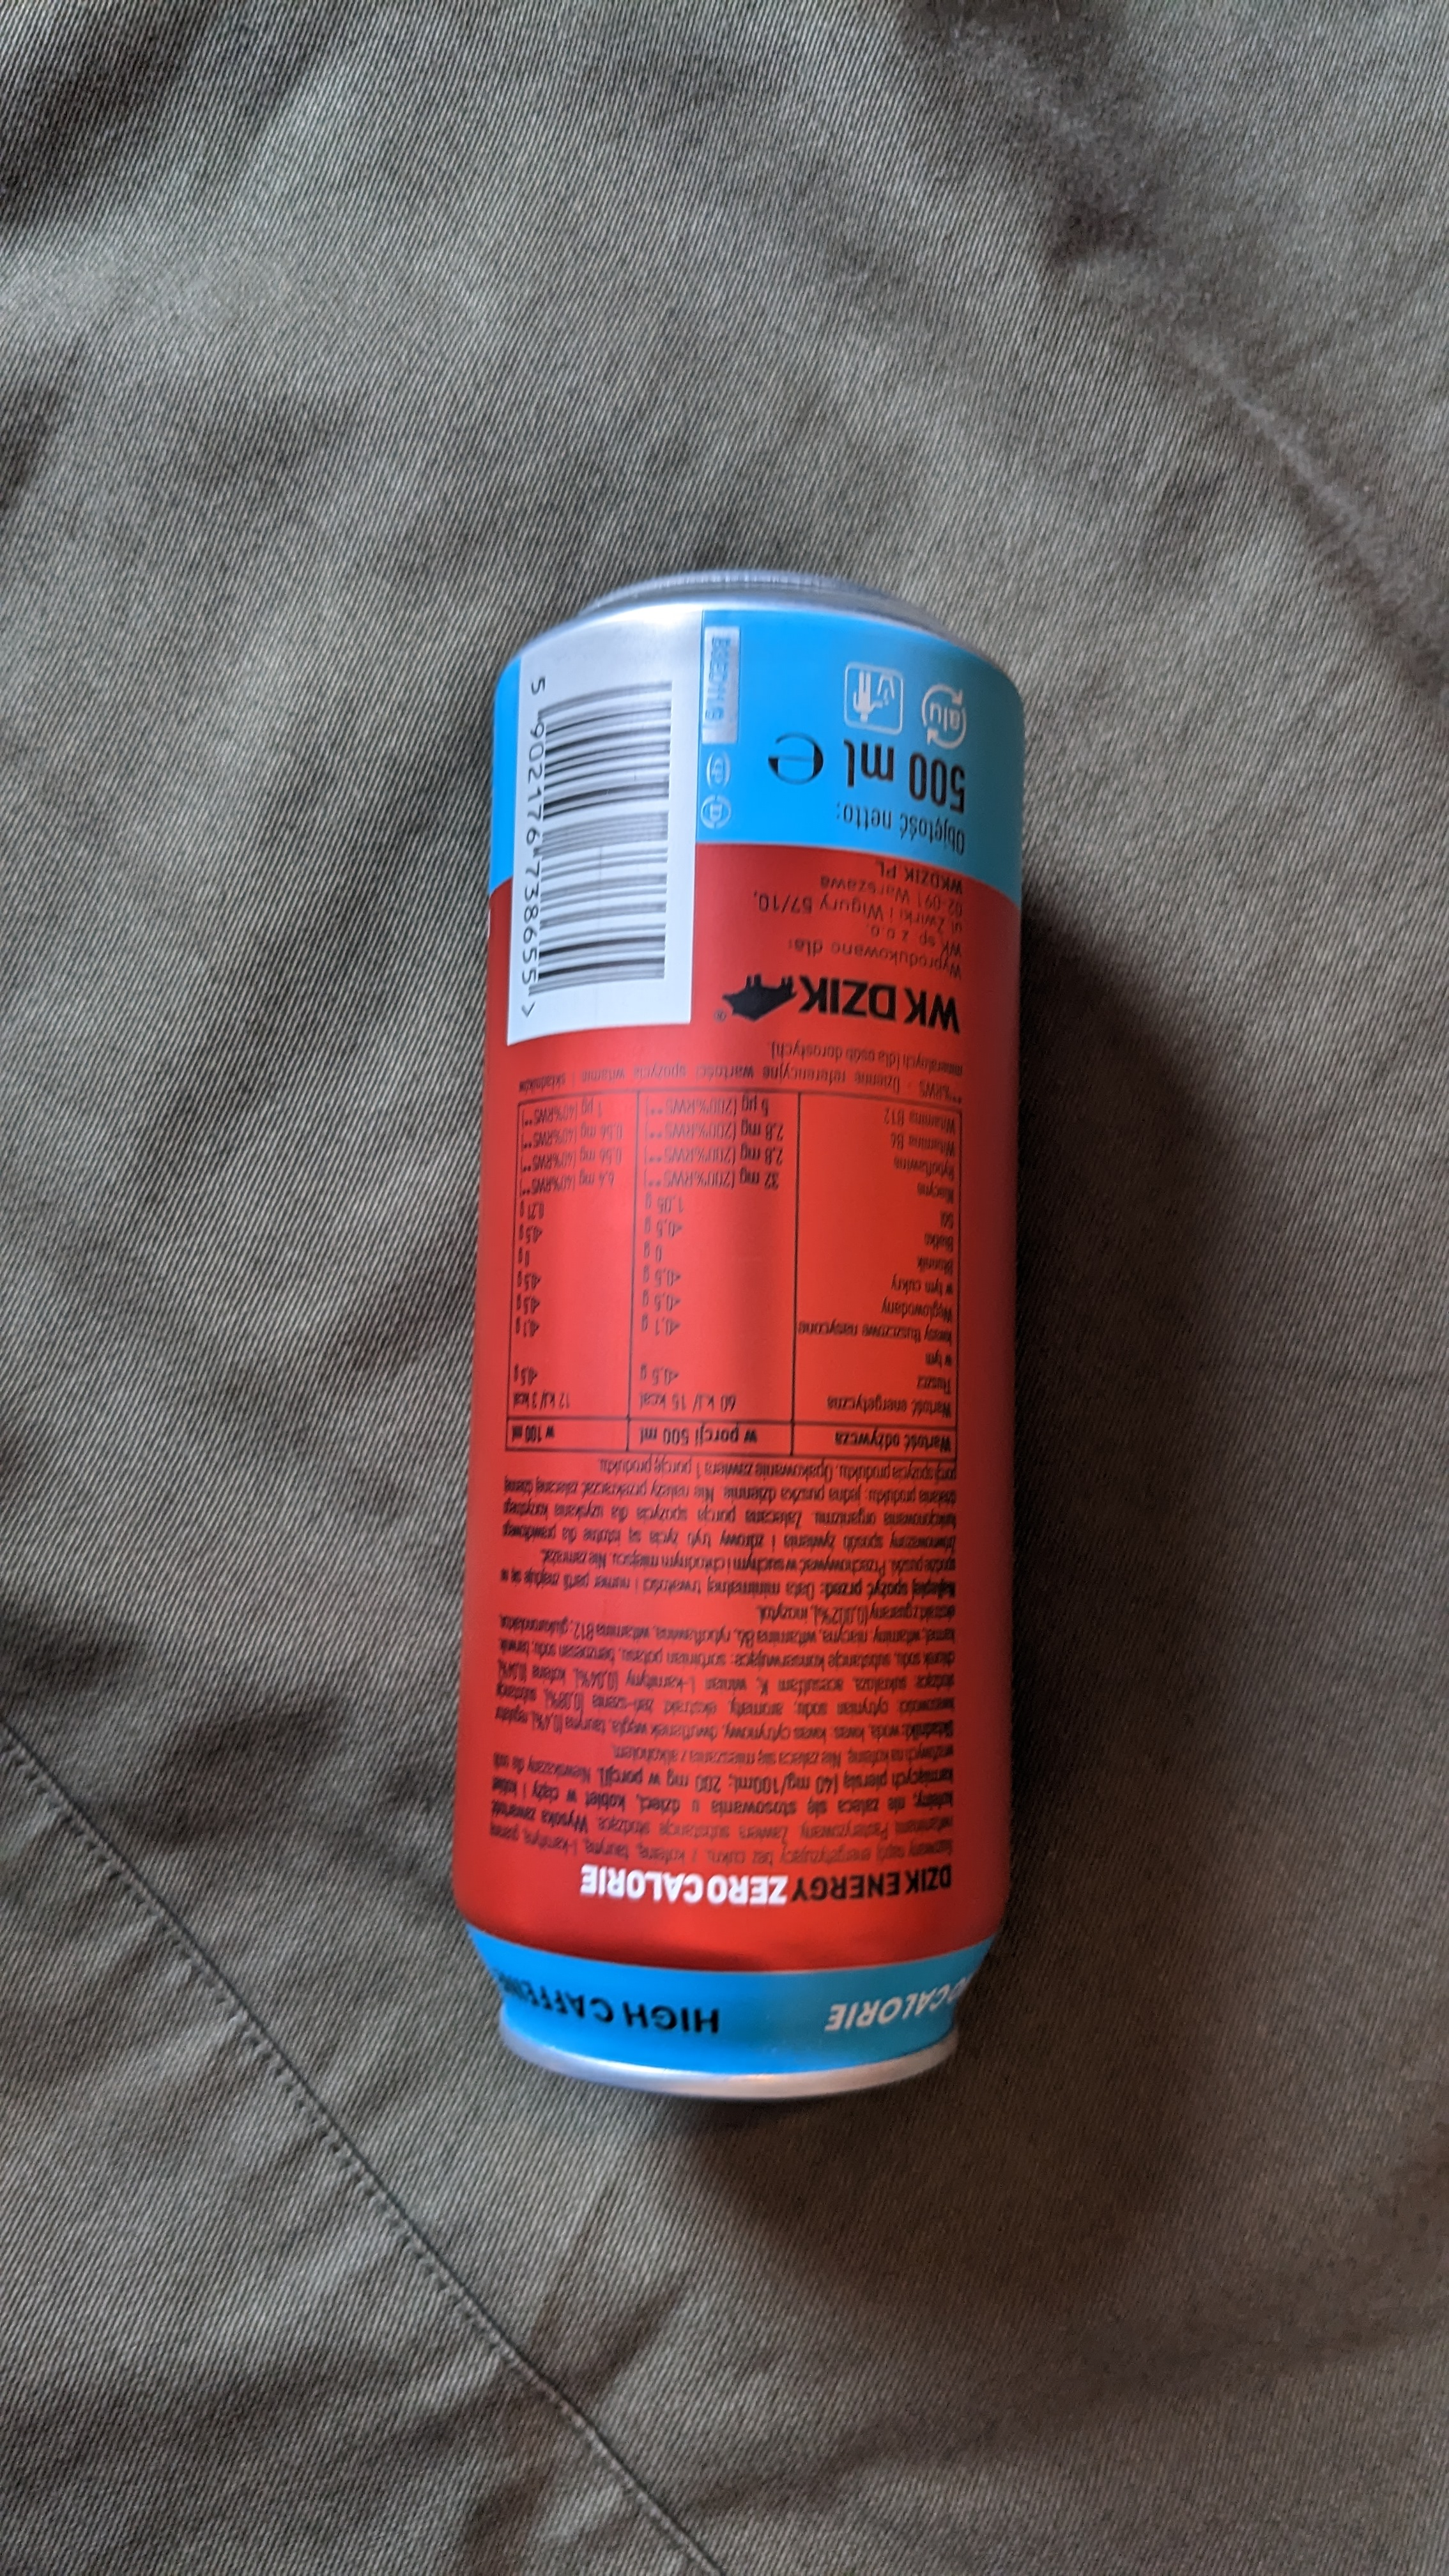dzik: (418, 563, 1031, 2134)
